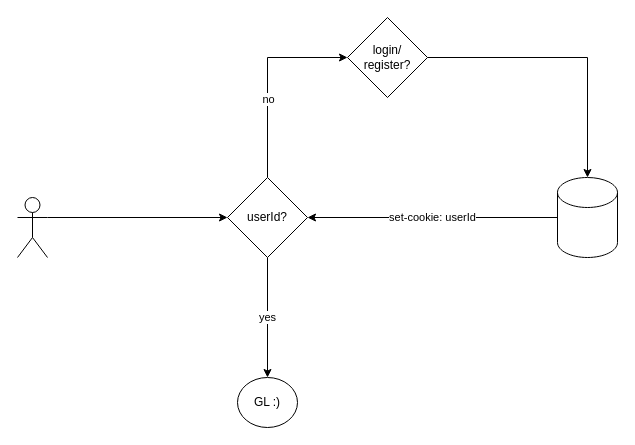
The diagram is 635 pixels wide and 445 high, and some of its shapes have lost their labels. Here are the shapes that lost their labels. From the top down, the centre of each, then its label:
point (32, 227): Actor
point (587, 217): DB
